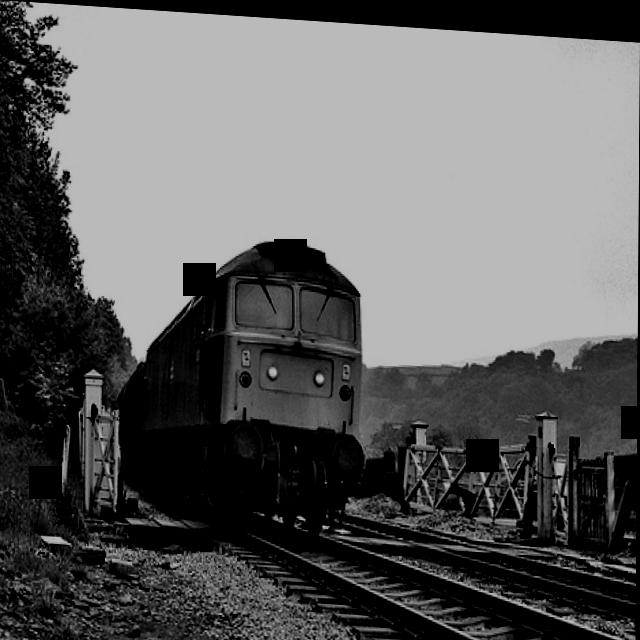locomotive: (137, 214, 378, 556)
